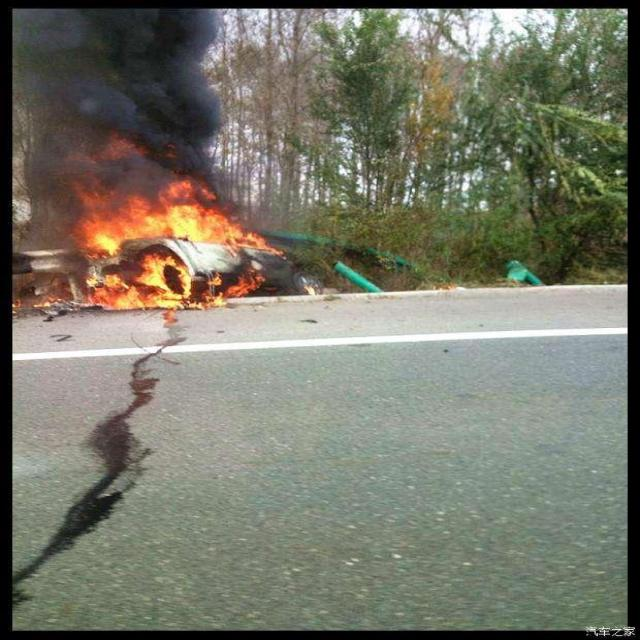fire: (42, 150, 276, 306)
smoke: (22, 9, 226, 145)
